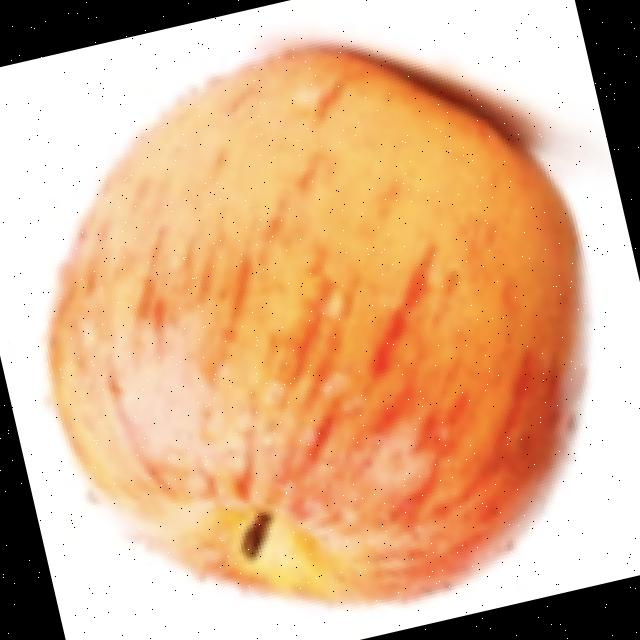apple: (32, 21, 607, 620)
